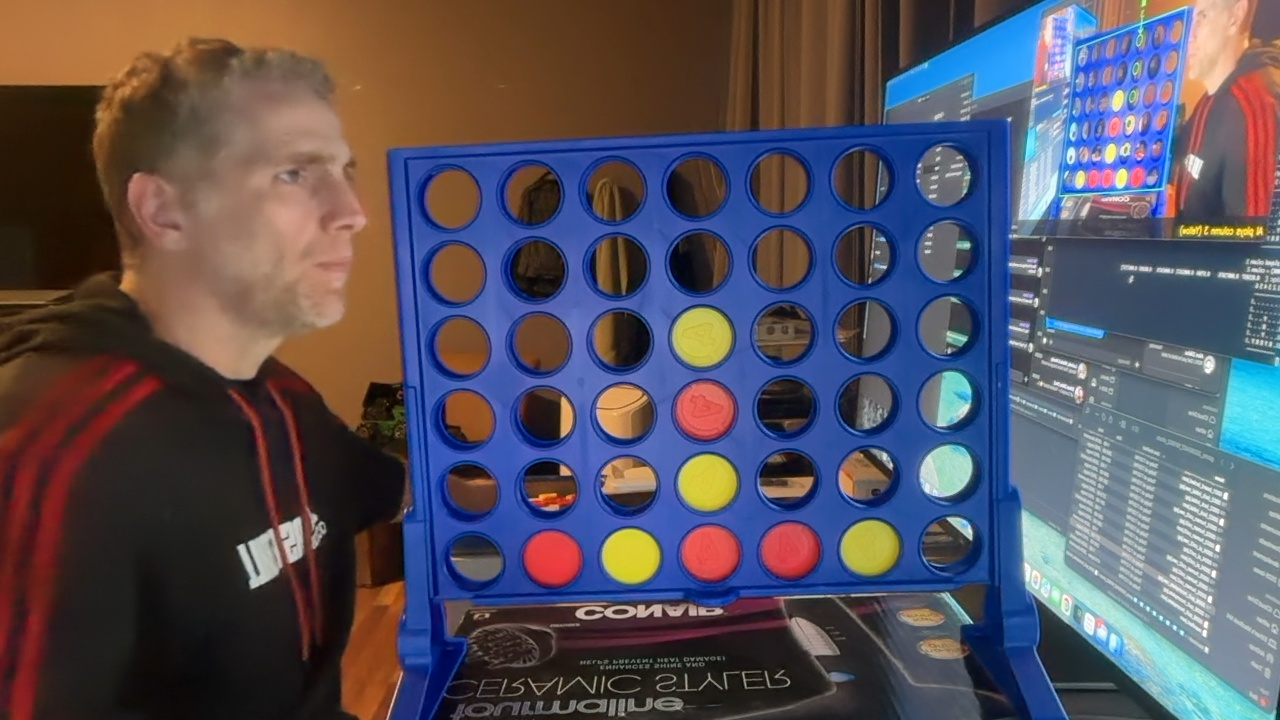red piece: (674, 380, 736, 440), (760, 521, 820, 580), (522, 530, 582, 587), (680, 525, 740, 582)
yellow piece: (670, 306, 733, 367), (676, 453, 738, 512), (839, 519, 901, 576), (601, 527, 660, 584)
